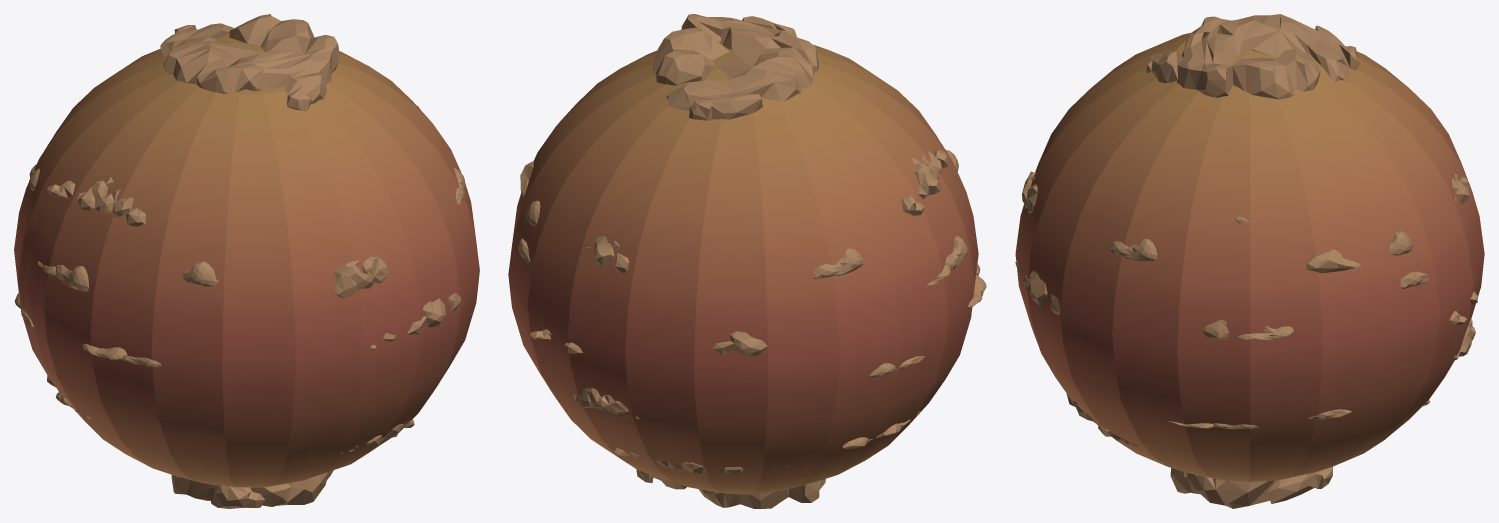
The model's file is cloud-sphere-orange.glb.
3 renders of one model, left to right at view 1: azimuth 30°, elevation 25°; view 2: azimuth 150°, elevation 25°; view 3: azimuth 270°, elevation 25°, orthographic.
Visible parts, largest first — view 1: tatooine_sky, cloud20, cloud19, polySurface14, polySurface8, polySurface7, polySurface13, polySurface10; view 2: tatooine_sky, cloud20, cloud19, polySurface14, polySurface17, polySurface26, polySurface15, polySurface6, polySurface25; view 3: tatooine_sky, cloud20, cloud19, polySurface20, polySurface9, polySurface7.
Boxes of the visible parts, x1=… form: tatooine_sky: x1=14, y1=33, x2=479, y2=487; cloud20: x1=160, y1=14, x2=339, y2=110; cloud19: x1=171, y1=470, x2=333, y2=508; polySurface14: x1=47, y1=177, x2=148, y2=226; polySurface8: x1=334, y1=256, x2=388, y2=298; polySurface7: x1=370, y1=293, x2=461, y2=349; polySurface13: x1=55, y1=264, x2=89, y2=291; polySurface10: x1=183, y1=261, x2=218, y2=286; tatooine_sky: x1=508, y1=41, x2=978, y2=494; cloud20: x1=653, y1=14, x2=818, y2=120; cloud19: x1=636, y1=469, x2=825, y2=508; polySurface14: x1=901, y1=150, x2=948, y2=215; polySurface17: x1=712, y1=331, x2=767, y2=356; polySurface26: x1=572, y1=388, x2=640, y2=419; polySurface15: x1=813, y1=248, x2=863, y2=278; polySurface6: x1=586, y1=236, x2=629, y2=272; polySurface25: x1=614, y1=448, x2=787, y2=473; tatooine_sky: x1=1015, y1=33, x2=1484, y2=481; cloud20: x1=1146, y1=14, x2=1359, y2=99; cloud19: x1=1170, y1=466, x2=1332, y2=508; polySurface20: x1=1306, y1=249, x2=1360, y2=273; polySurface9: x1=1108, y1=238, x2=1157, y2=261; polySurface7: x1=1015, y1=261, x2=1060, y2=314.
Bounding box in the file's own units: 546 × 566 × 542.
